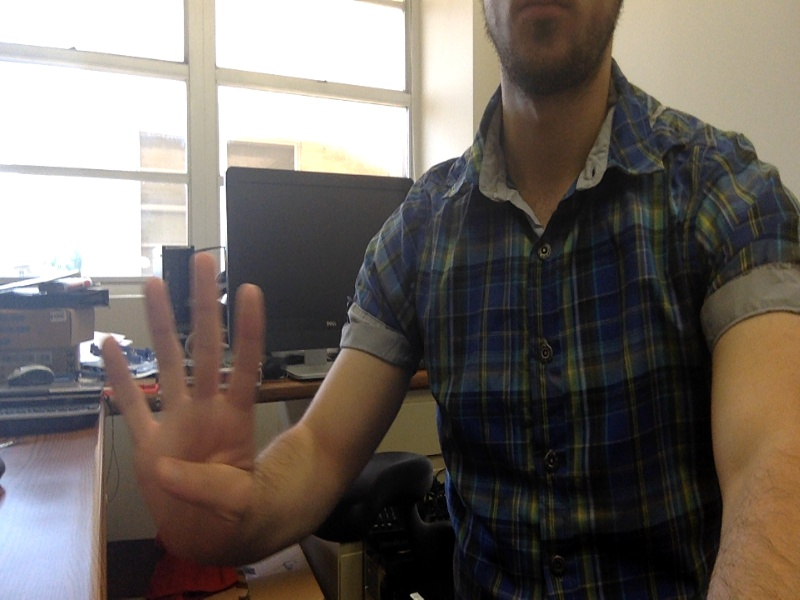4-hand: (101, 257, 263, 563)
